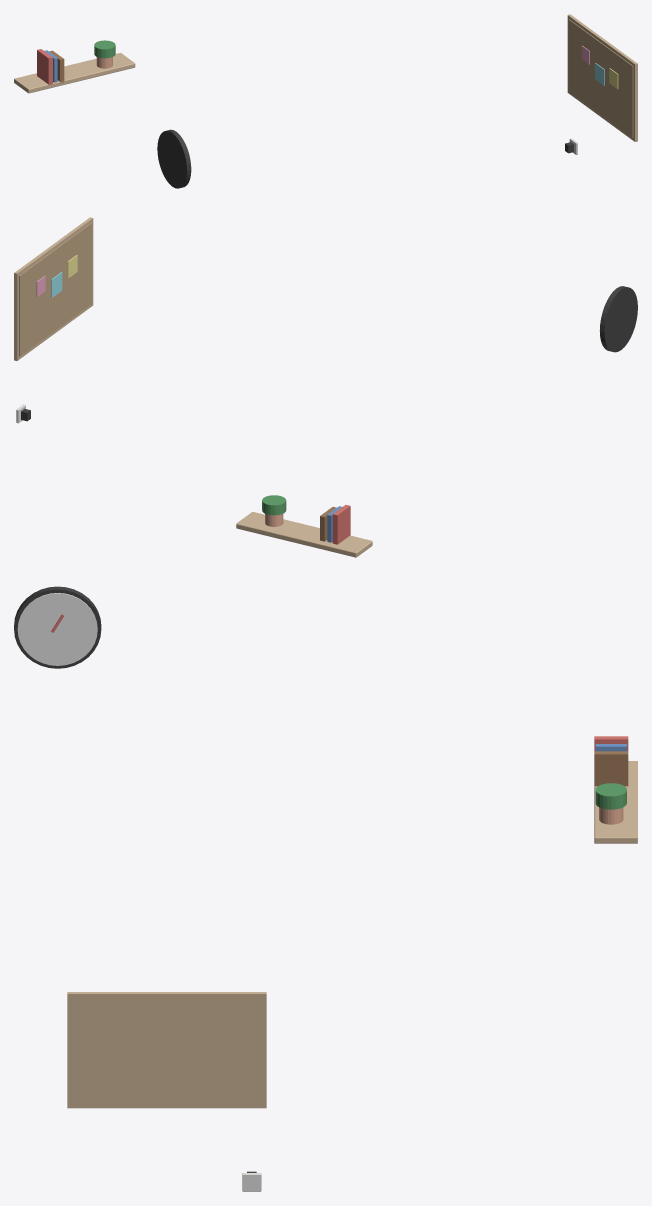
File: props_decor.fbx
The picture shows the model from 3 angles, top to bottom: view 1: azimuth 30°, elevation 25°; view 2: azimuth 150°, elevation 25°; view 3: azimuth 270°, elevation 25°; orthographic projection. The views are drawn at different scales.
Visible parts, largest first — view 1: Papan_Memo_Gabus, Rak_Dinding, Jam_Frame, Papan_Memo_Bingkai, Buku_Rak_1, Tanaman_Succulent; view 2: Papan_Memo_Gabus, Rak_Dinding, Jam_Frame, Papan_Memo_Bingkai, Buku_Rak_1; view 3: Papan_Memo_Bingkai, Jam_Dial, Rak_Dinding, Jam_Frame, Buku_Rak_3.
Boxes of the visible parts, <box> form: Papan_Memo_Gabus: <box>568,19,633,137</box>; Rak_Dinding: <box>14,53,135,93</box>; Jam_Frame: <box>157,129,191,188</box>; Papan_Memo_Bingkai: <box>567,14,637,141</box>; Buku_Rak_1: <box>37,49,52,84</box>; Tanaman_Succulent: <box>94,40,115,58</box>; Papan_Memo_Gabus: <box>19,223,92,356</box>; Rak_Dinding: <box>236,512,372,557</box>; Jam_Frame: <box>599,286,637,352</box>; Papan_Memo_Bingkai: <box>14,217,93,360</box>; Buku_Rak_1: <box>332,505,350,544</box>; Papan_Memo_Bingkai: <box>67,992,266,1108</box>; Jam_Dial: <box>17,593,97,665</box>; Rak_Dinding: <box>594,761,637,843</box>; Jam_Frame: <box>14,586,101,668</box>; Buku_Rak_3: <box>594,751,628,786</box>.
Size of the model in its own units: 3.29 by 1.22 by 2.57.
